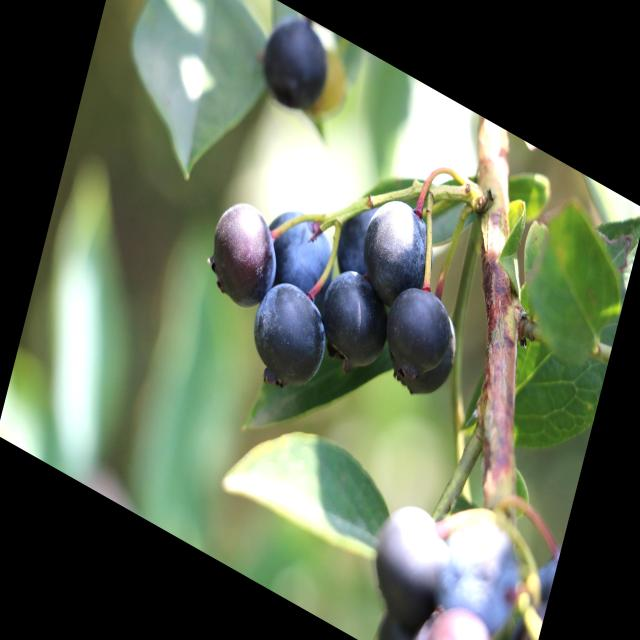blueberry: (426, 504, 525, 640), (242, 270, 335, 403), (363, 492, 455, 625), (199, 190, 286, 320), (357, 189, 440, 315), (254, 8, 335, 122), (260, 196, 340, 311), (316, 266, 395, 379), (383, 279, 454, 386), (332, 195, 386, 288)
